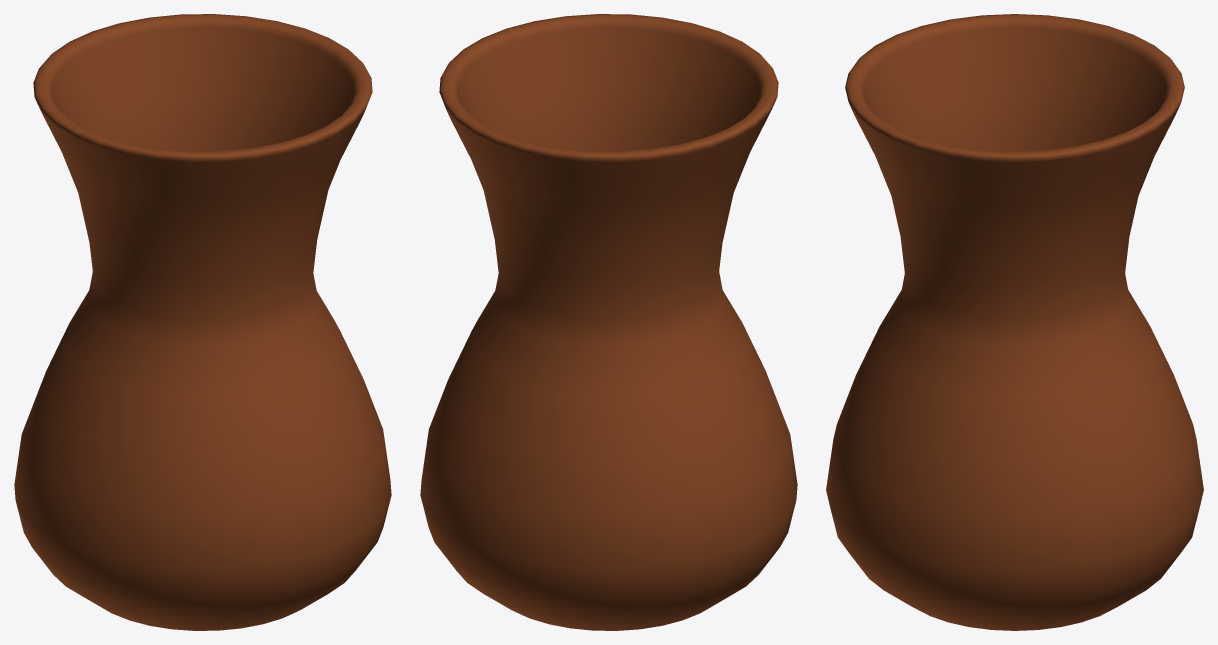
File: vase.fbx
3 renders of one model, left to right at view 1: azimuth 30°, elevation 25°; view 2: azimuth 150°, elevation 25°; view 3: azimuth 270°, elevation 25°, orthographic.
Parts seen in each view (by area): view 1: Cylinder; view 2: Cylinder; view 3: Cylinder.
Boxes of the visible parts, x1,y1,x2,y2 form: Cylinder: [14, 14, 391, 630]; Cylinder: [420, 14, 797, 630]; Cylinder: [826, 14, 1203, 630].
Bounding box in the file's own units: 27.55 × 40 × 27.55.
